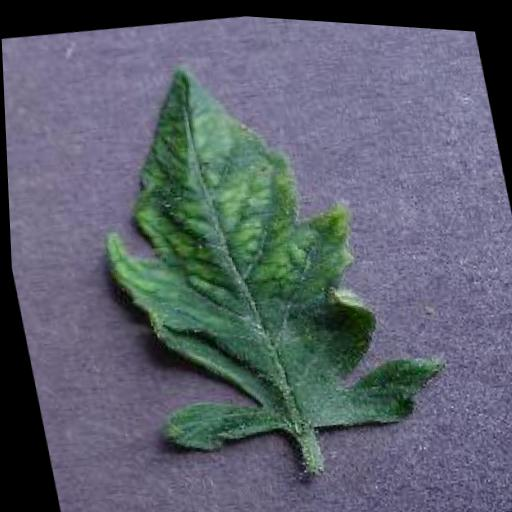Mosaic Virus: (70, 24, 457, 475)
